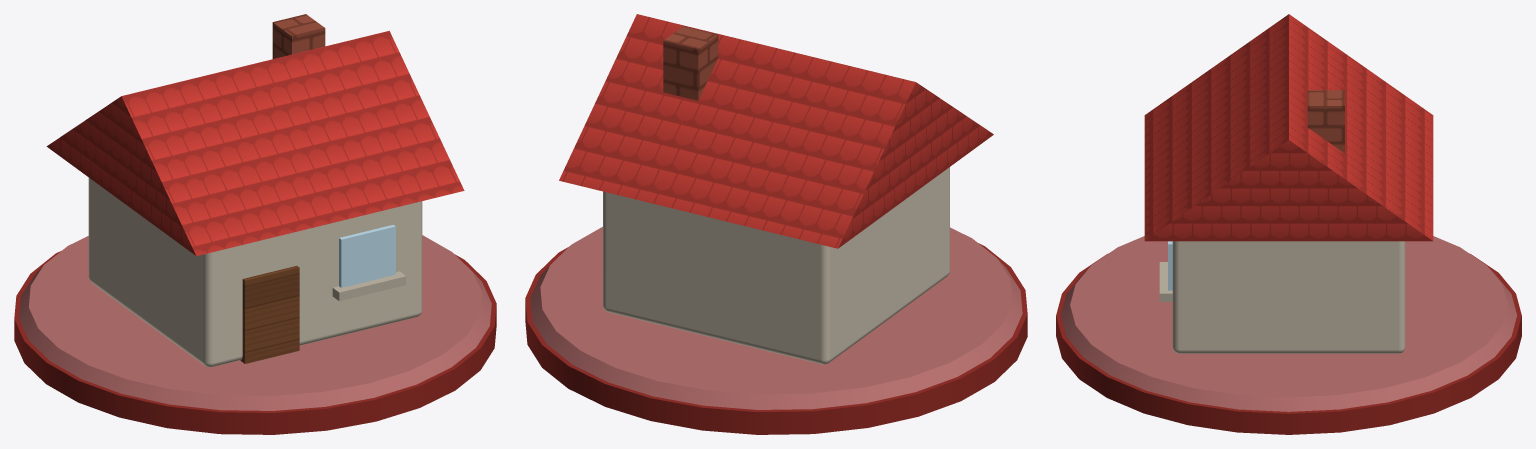
File: tier-07-tiny-house.glb
The picture shows the model from 3 angles, left to right: view 1: azimuth 30°, elevation 25°; view 2: azimuth 150°, elevation 25°; view 3: azimuth 270°, elevation 25°; orthographic projection. The views are drawn at different scales.
Visible parts, largest first — view 1: matte, roof, wood, gloss, brick; view 2: matte, roof, brick; view 3: matte, roof, brick.
Part boxes in pixels (left/top/right/bottom): matte: left=14, top=177, right=496, bottom=434; roof: left=46, top=30, right=464, bottom=255; wood: left=240, top=266, right=299, bottom=363; gloss: left=339, top=224, right=395, bottom=287; brick: left=272, top=14, right=325, bottom=58; matte: left=525, top=167, right=1027, bottom=434; roof: left=559, top=14, right=993, bottom=248; brick: left=663, top=26, right=718, bottom=100; matte: left=1056, top=236, right=1521, bottom=434; roof: left=1144, top=14, right=1433, bottom=241; brick: left=1307, top=90, right=1344, bottom=153.
Bounding box in the file's own units: 1 × 0.635 × 1.
5 materials, 3 textured.
